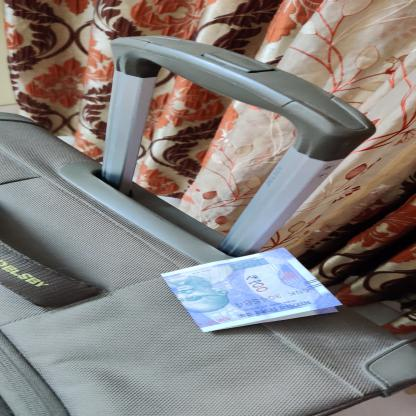New100Front: (156, 246, 348, 334)
